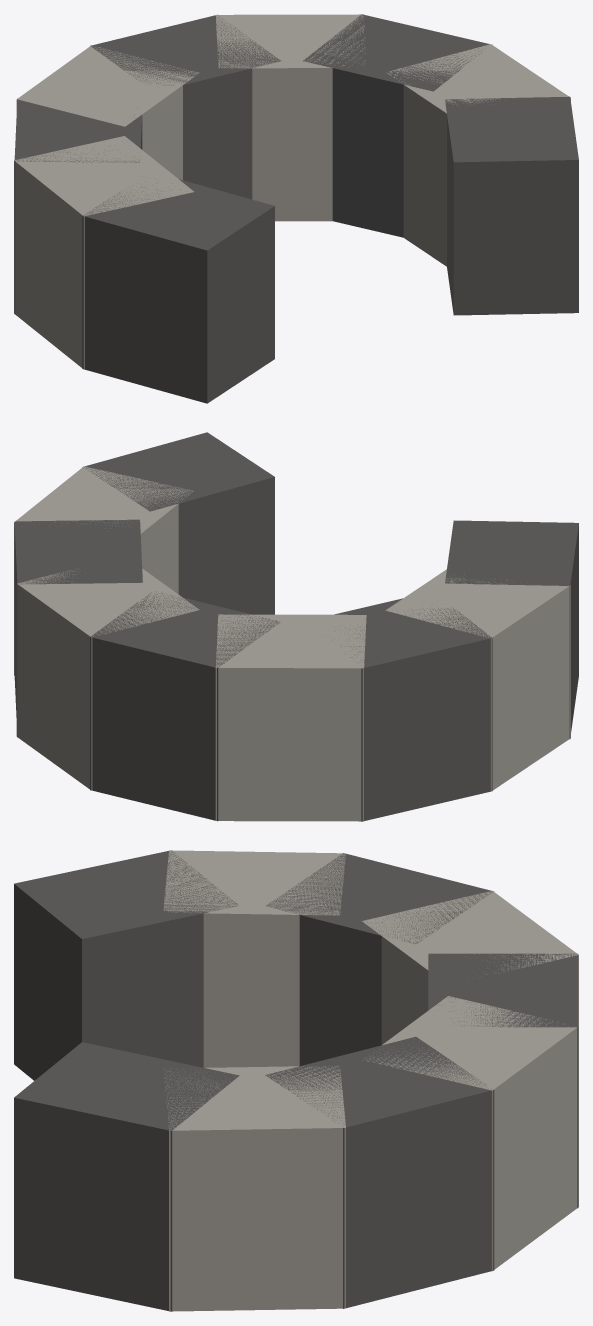
The model's file is Horseshoe.fbx.
The picture shows the model from 3 angles, top to bottom: view 1: azimuth 30°, elevation 25°; view 2: azimuth 150°, elevation 25°; view 3: azimuth 270°, elevation 25°; orthographic projection. The views are drawn at different scales.
Parts seen in each view (by area): view 1: Horseshoe; view 2: Horseshoe; view 3: Horseshoe.
Boxes of the visible parts, x1,y1,x2,y2 form: Horseshoe: (14, 14, 578, 403); Horseshoe: (14, 432, 578, 821); Horseshoe: (14, 850, 578, 1311).
Size of the model in its own units: 1 by 0.3 by 0.85.
